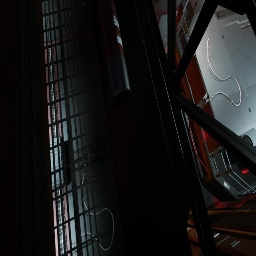NitrogenTank ,: (97, 0, 131, 108)
